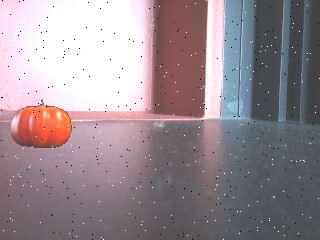Pumpkin: (12, 100, 72, 150)
